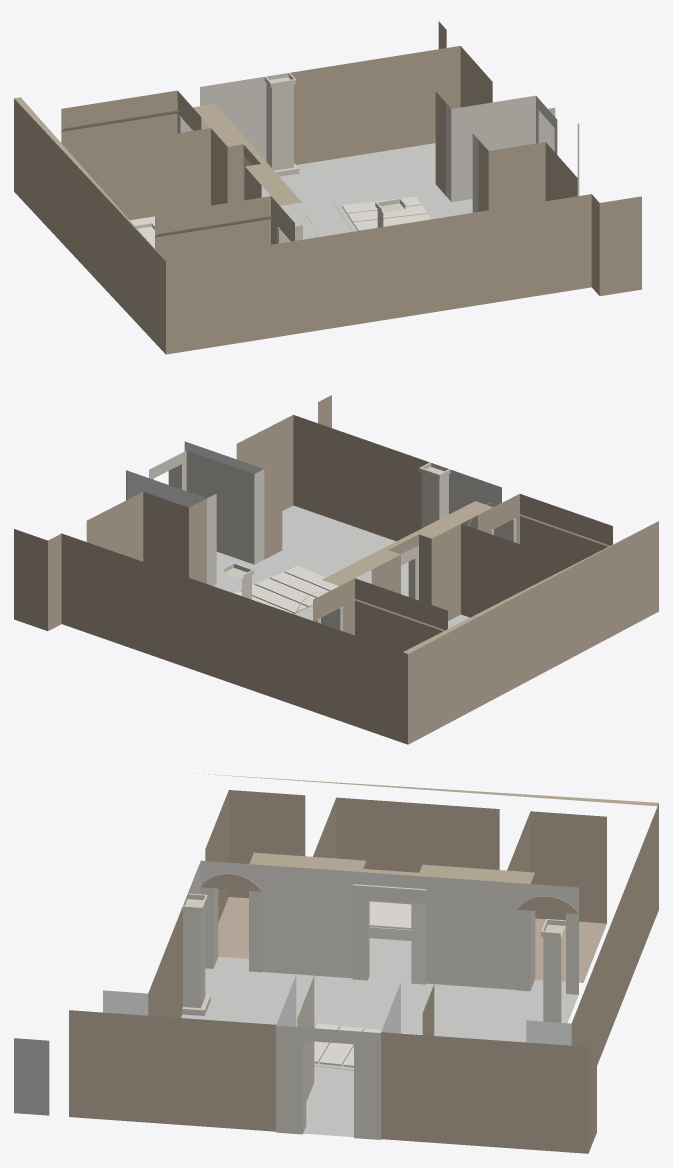
File: Sethnakht.glb
The picture shows the model from 3 angles, top to bottom: view 1: azimuth 30°, elevation 25°; view 2: azimuth 150°, elevation 25°; view 3: azimuth 270°, elevation 25°; orthographic projection. The views are drawn at different scales.
Visible parts, largest first — view 1: Mesh3 Model, Mesh1 Component_1_1 Model; view 2: Mesh3 Model, Mesh1 Component_1_1 Model; view 3: Mesh3 Model, Mesh4 Model, Mesh1 Component_1_1 Model, Mesh2 Component_4_1 Model.
Part boxes in pixels (<box>): Mesh3 Model: <box>14,21,641,354</box>; Mesh1 Component_1_1 Model: <box>264,73,299,176</box>; Mesh3 Model: <box>14,395,658,744</box>; Mesh1 Component_1_1 Model: <box>223,563,254,599</box>; Mesh3 Model: <box>69,773,658,1153</box>; Mesh4 Model: <box>14,1038,49,1115</box>; Mesh1 Component_1_1 Model: <box>541,919,565,1022</box>; Mesh2 Component_4_1 Model: <box>369,900,411,929</box>.
Bounding box in the file's own units: 12.52 × 2.3 × 12.46.
